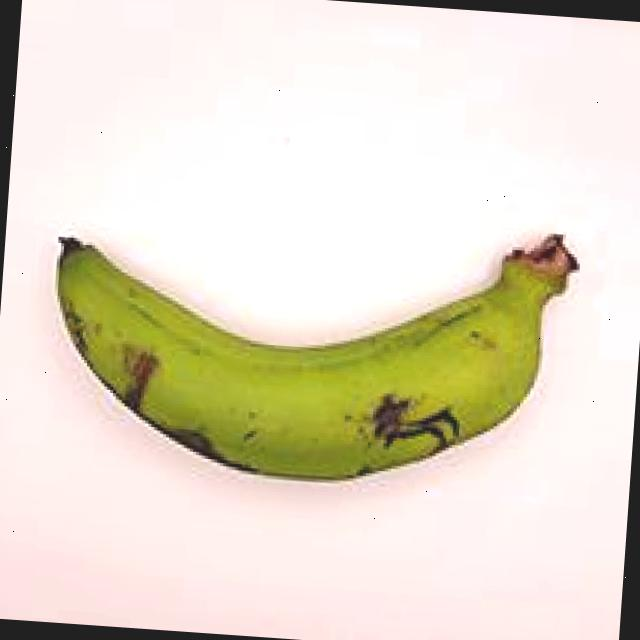Raw: (11, 161, 600, 525)
